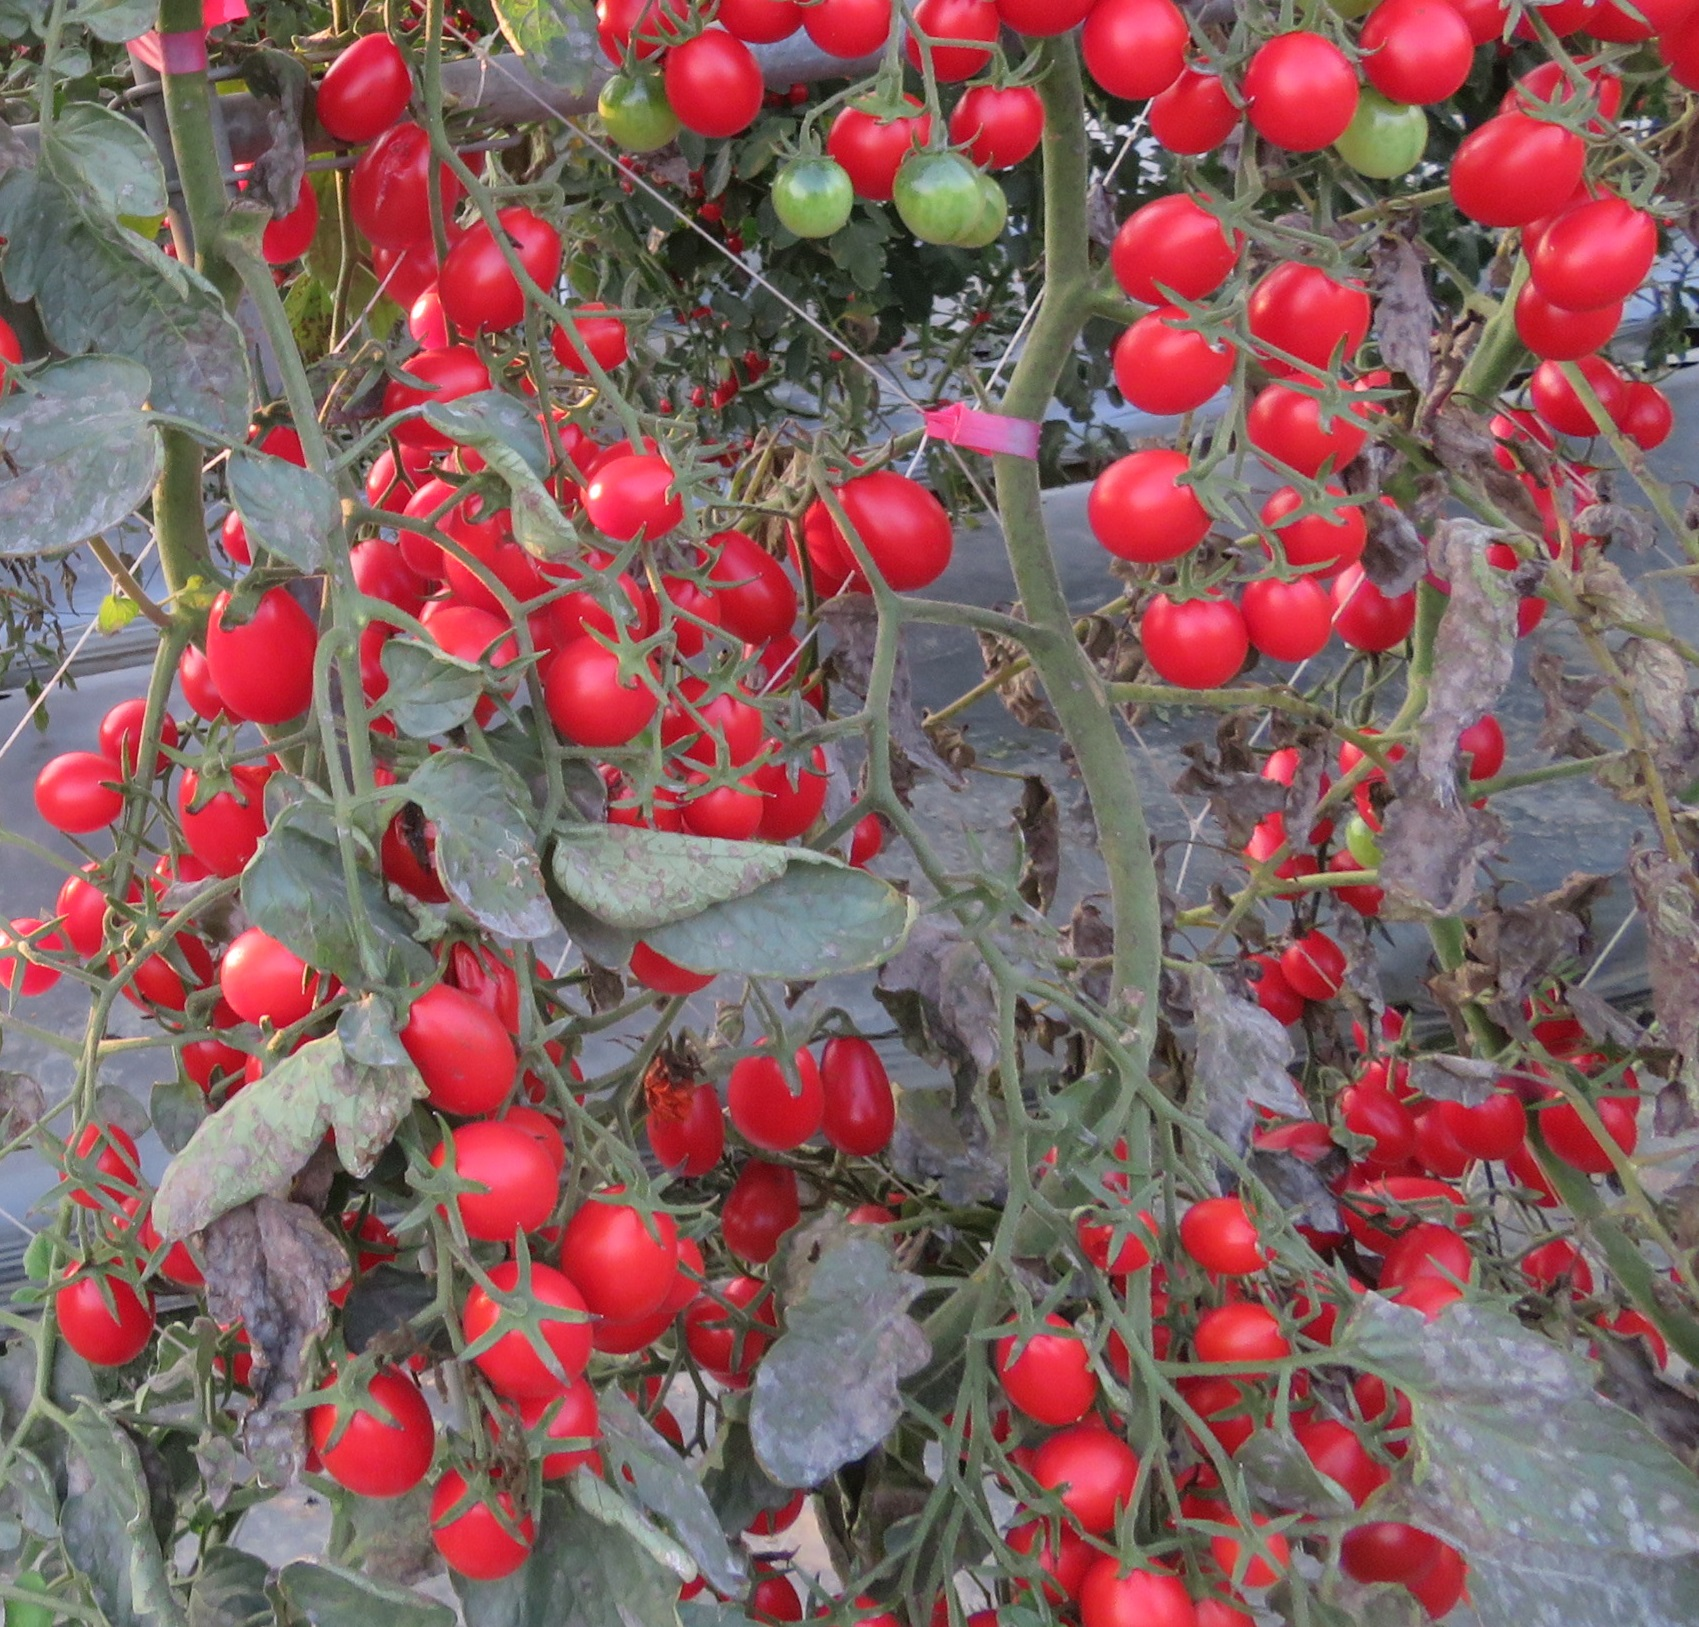green: (884, 140, 977, 240), (1332, 96, 1430, 183), (595, 67, 681, 155), (772, 156, 849, 241)
red: (199, 564, 328, 738), (1098, 183, 1259, 309), (426, 1114, 570, 1246), (306, 1362, 437, 1503), (463, 1252, 586, 1400), (432, 202, 567, 335), (1250, 243, 1387, 371), (394, 981, 520, 1121), (1077, 450, 1233, 563), (391, 980, 514, 1121), (350, 111, 466, 256), (441, 493, 566, 622), (1106, 299, 1238, 419), (1129, 569, 1250, 698), (827, 472, 956, 593), (572, 1183, 680, 1324), (1250, 371, 1399, 473), (539, 632, 657, 760), (1453, 108, 1588, 215), (378, 343, 508, 450), (1535, 193, 1663, 302), (215, 923, 344, 1030), (988, 1310, 1103, 1428), (693, 525, 801, 650), (822, 85, 937, 202), (1242, 30, 1352, 152), (55, 1246, 156, 1368), (162, 757, 267, 873), (657, 30, 766, 141), (428, 1471, 539, 1580), (1038, 1425, 1144, 1539), (1030, 1428, 1145, 1530), (581, 437, 689, 544), (725, 1039, 816, 1165), (812, 1027, 893, 1166), (645, 1055, 733, 1183), (1374, 1218, 1476, 1327), (105, 919, 215, 1017), (316, 32, 416, 140), (661, 669, 766, 770), (950, 71, 1047, 180), (1540, 1086, 1644, 1186), (1242, 561, 1333, 673), (1373, 2, 1464, 112), (55, 860, 150, 963), (746, 729, 830, 845), (1082, 2, 1180, 99), (1528, 353, 1635, 440), (1082, 1544, 1192, 1627), (722, 1155, 802, 1269), (1327, 560, 1421, 657), (27, 748, 123, 842), (1259, 488, 1377, 564), (1335, 1071, 1421, 1174), (410, 602, 520, 682), (1179, 1196, 1283, 1277), (58, 1119, 146, 1208), (1191, 1299, 1299, 1372), (1159, 47, 1242, 140), (552, 296, 639, 384), (1211, 1509, 1295, 1594), (99, 698, 184, 776), (1336, 720, 1415, 805), (793, 3, 897, 64), (1277, 926, 1352, 1010), (713, 1560, 806, 1627), (680, 764, 760, 835), (2, 914, 64, 1005), (1616, 381, 1676, 450)
